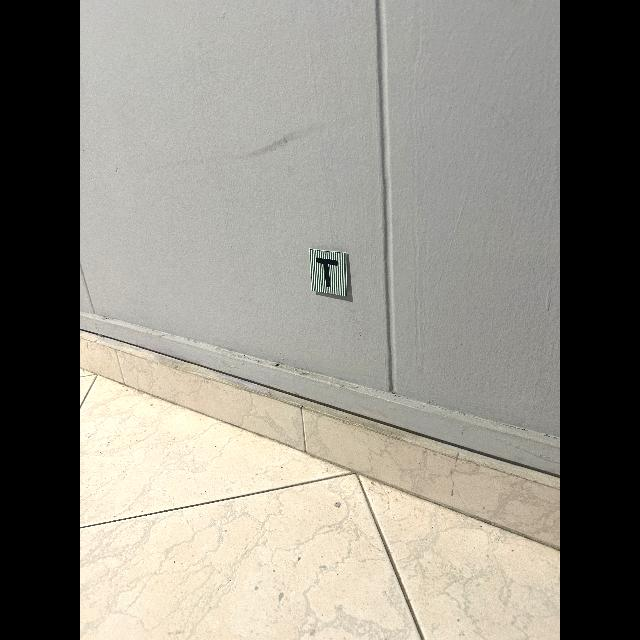T: (316, 257, 339, 288)
